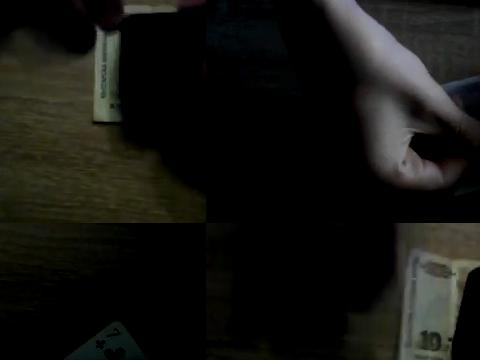10leva: (91, 28, 127, 126)
